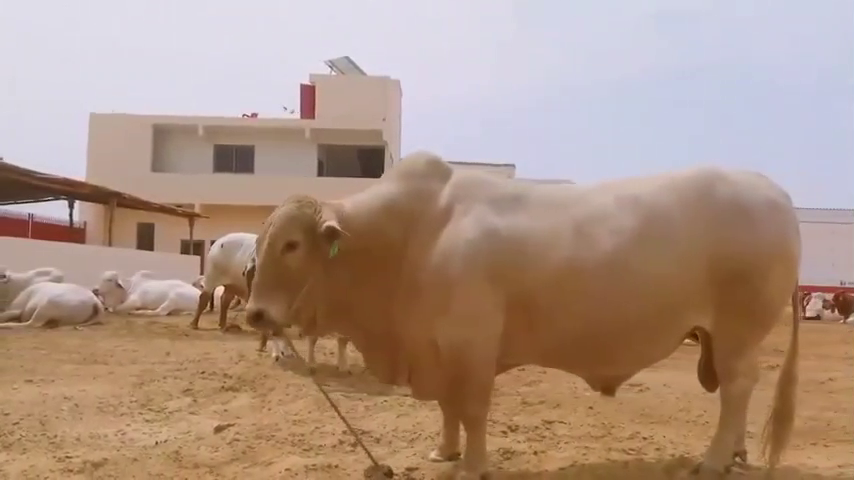bo: (243, 143, 824, 472), (190, 218, 261, 347), (91, 259, 202, 326), (5, 275, 110, 334), (4, 253, 74, 295)
